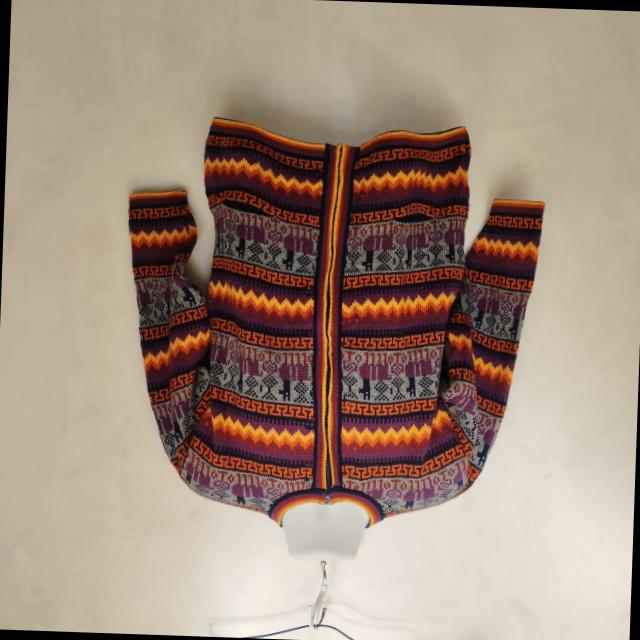Chompa: (117, 112, 548, 540)
